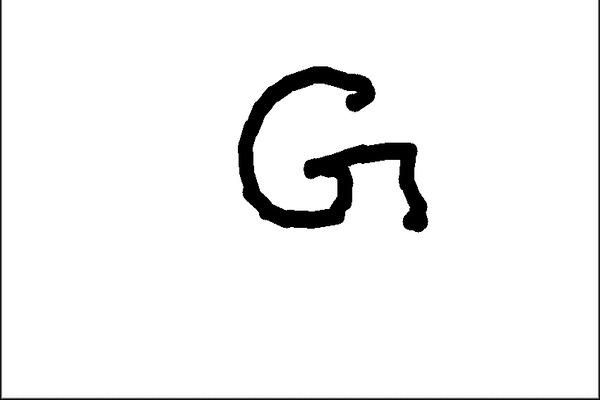G: (232, 61, 432, 242)
